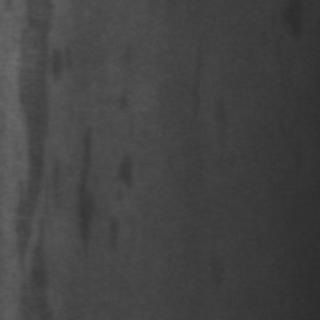inclusion: (10, 2, 62, 314), (67, 120, 105, 260), (183, 35, 211, 123), (109, 154, 141, 202)
